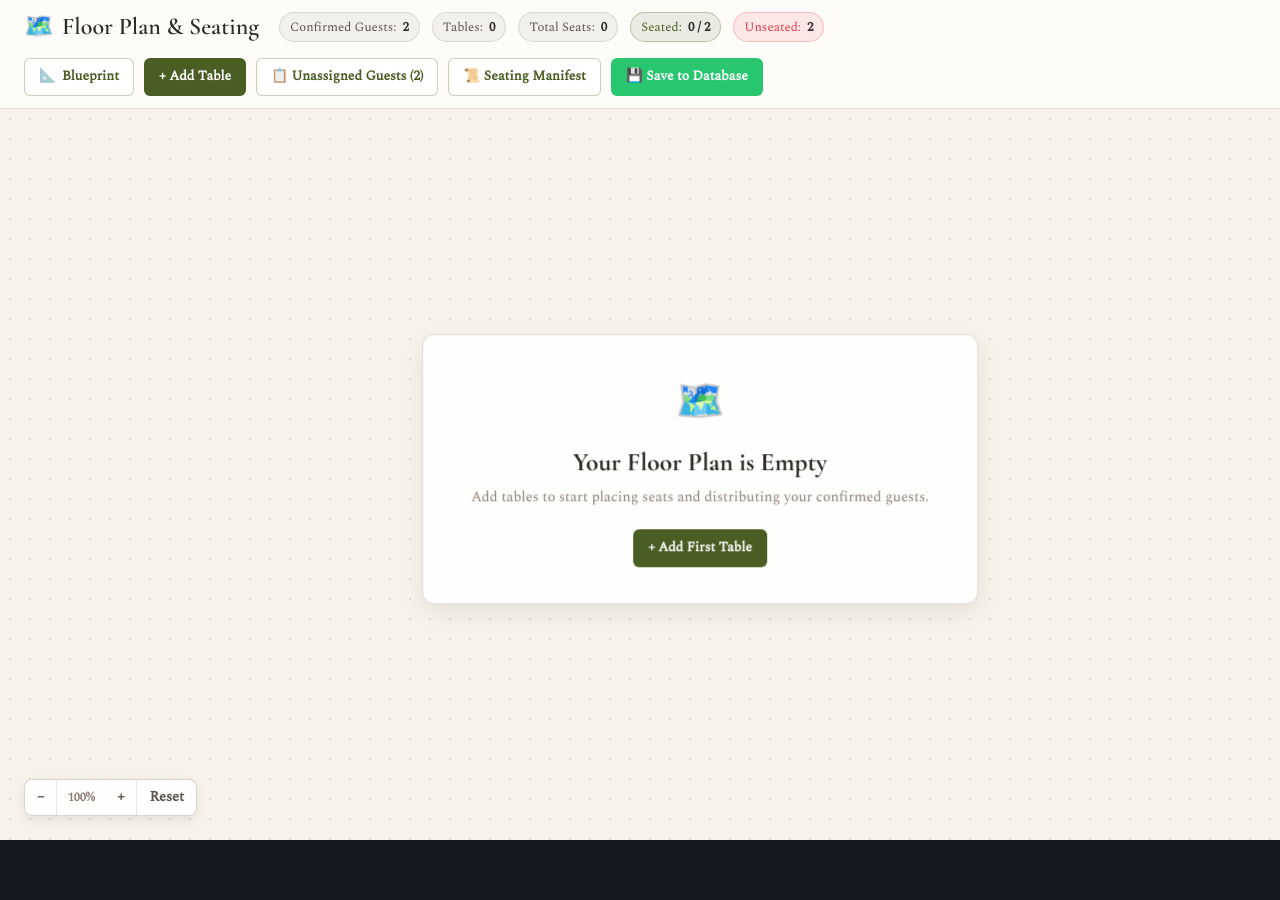
Test: FloorPlanView Component › opens the Add Table modal and adds a new table to the canvas
The width and height of the screenshot is (1280, 900).
# Click "+ Add Table" button in header
Click the button with test id "add-table-btn" at x=195, y=77, box x1=144 y1=58 x2=246 y2=96
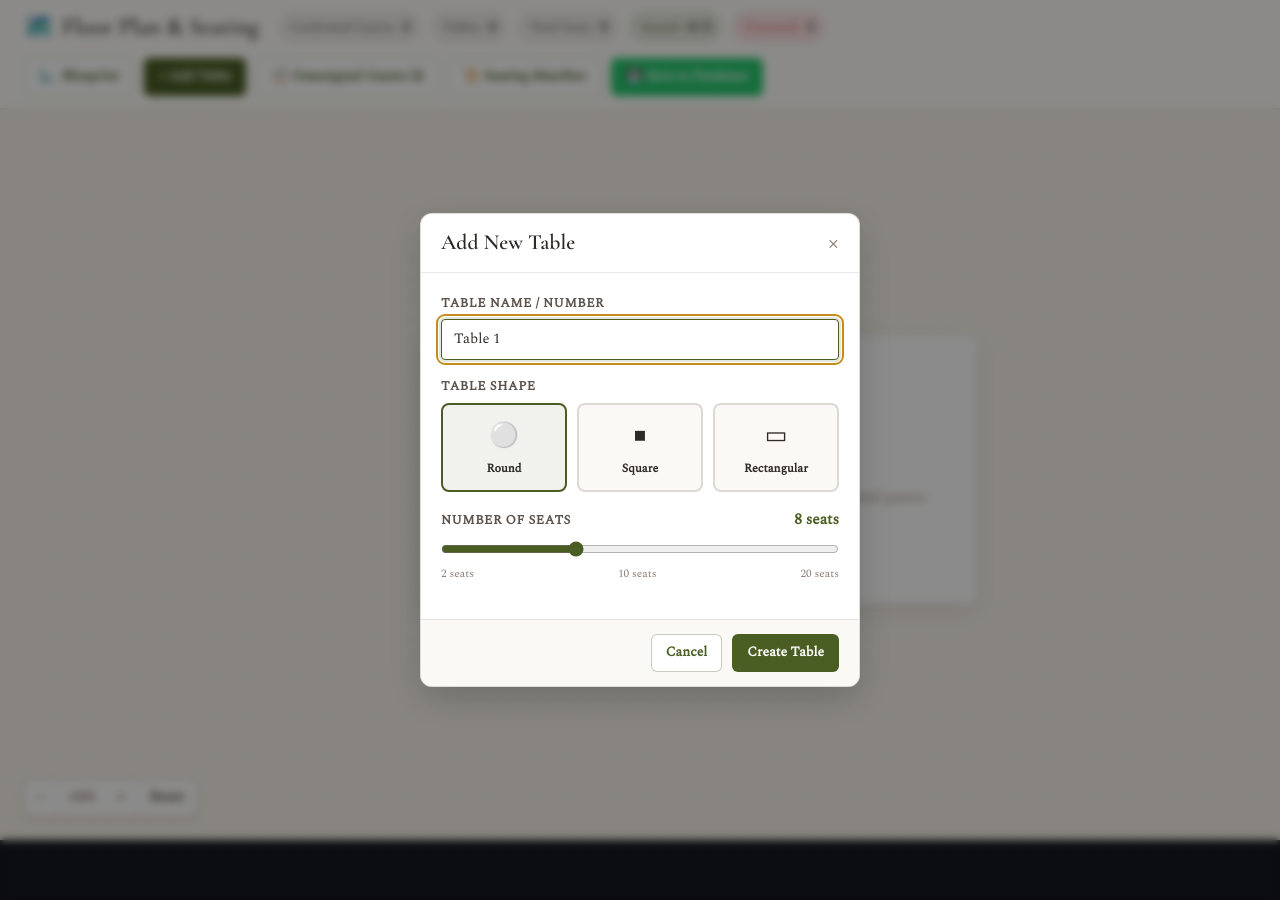
expect the heading "Add New Table" is shown: met, box x1=441 y1=230 x2=575 y2=256
# Fill table name and choose square
Replace the text in the field labelled "Table Name / Number" with "Mesa VIP" at x=640, y=340, box x1=441 y1=319 x2=839 y2=360
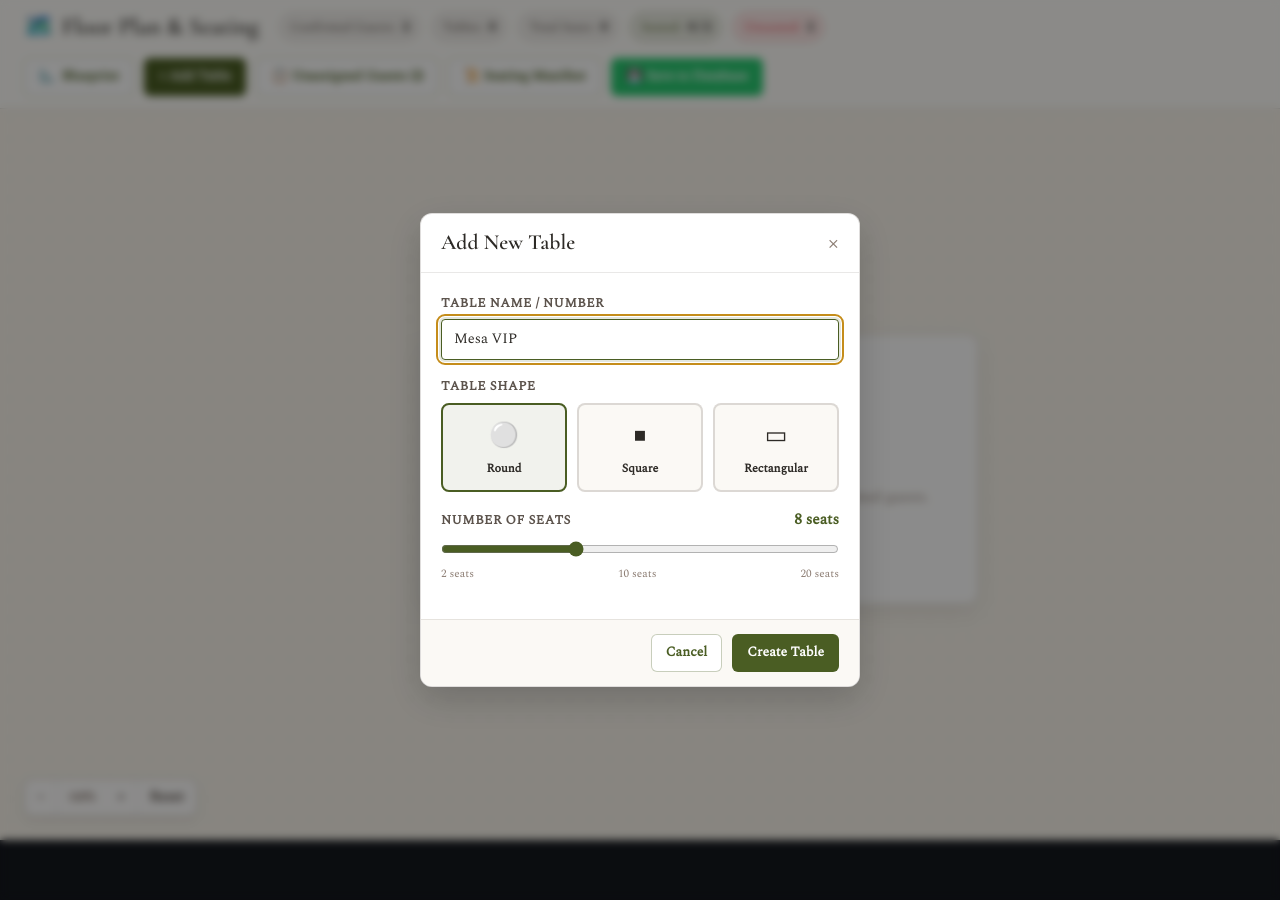
Click the element with test id "shape-card-square" at x=640, y=448, box x1=577 y1=403 x2=703 y2=492
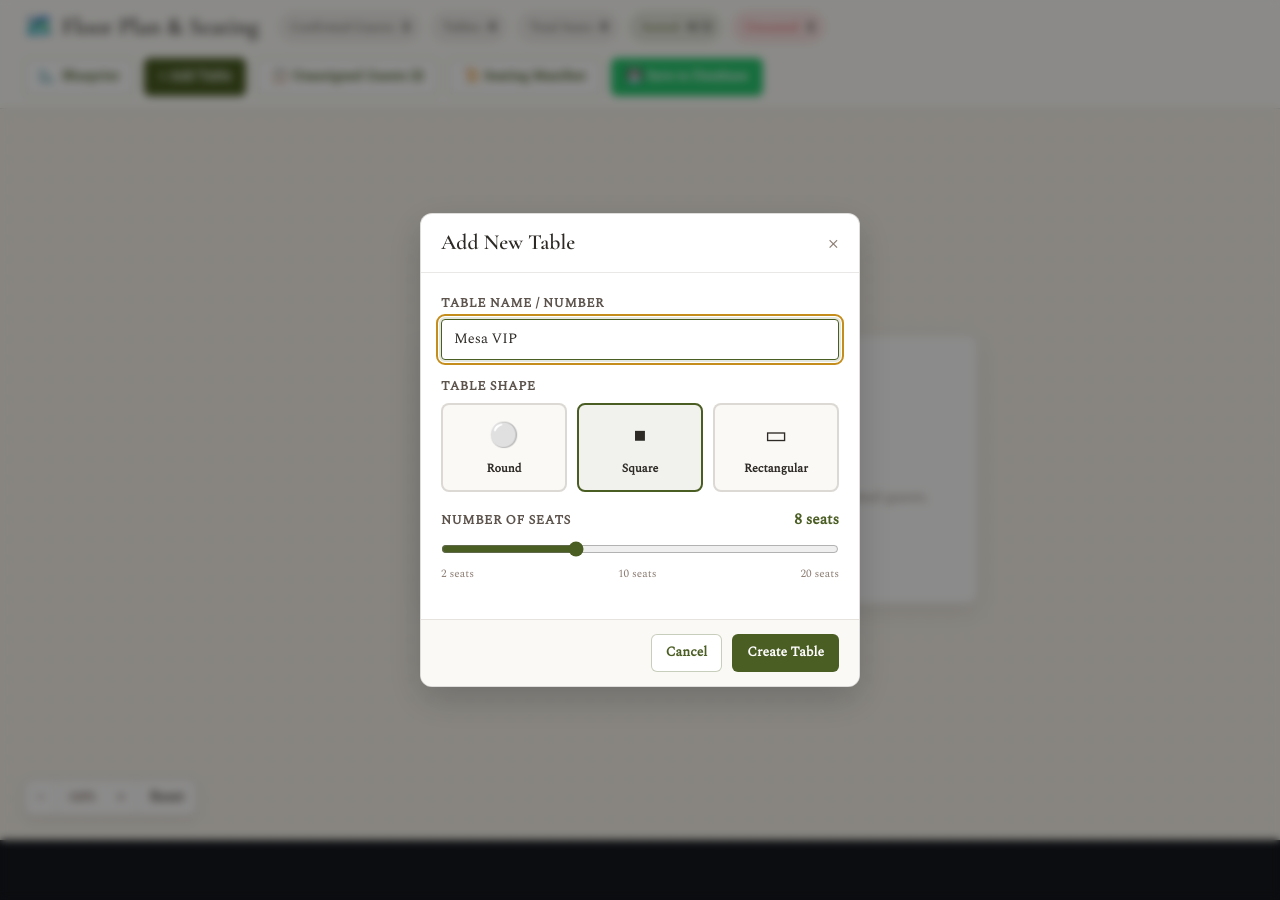
# Submit form
Click the button "Create Table" at x=786, y=653, box x1=732 y1=634 x2=839 y2=672
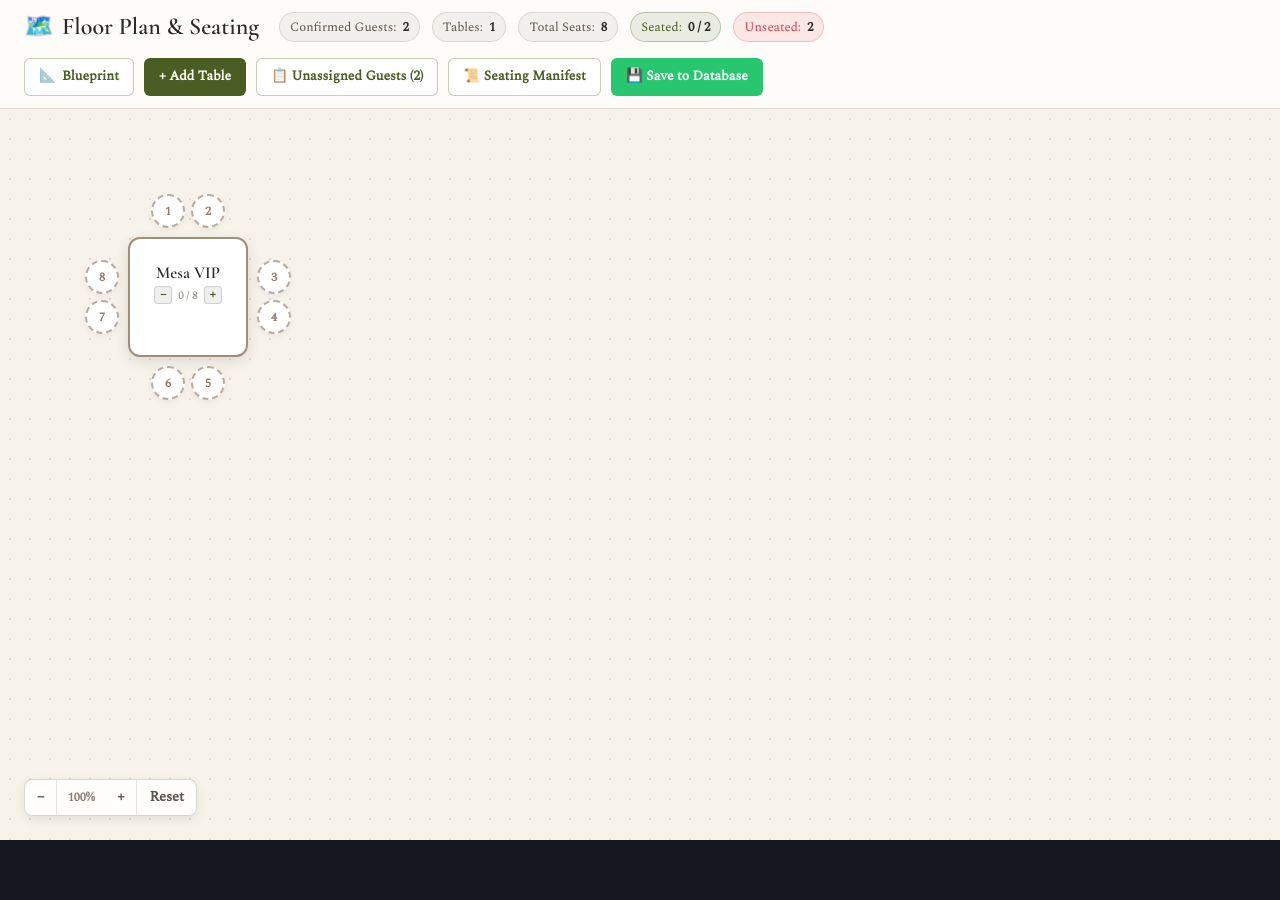
expect the heading "Add New Table" is gone: met
expect the heading "Mesa VIP" is shown: met, box x1=156 y1=263 x2=220 y2=283
